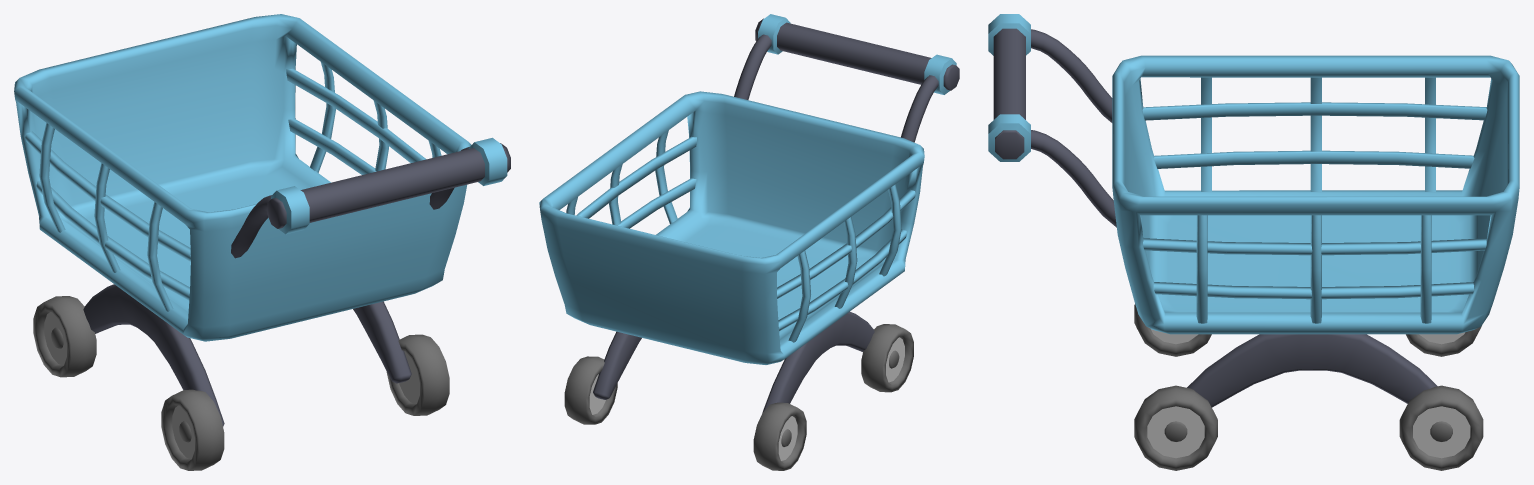
File: mdl_cart.fbx
The picture shows the model from 3 angles, left to right: view 1: azimuth 30°, elevation 25°; view 2: azimuth 150°, elevation 25°; view 3: azimuth 270°, elevation 25°; orthographic projection. The views are drawn at different scales.
Visible parts, largest first — view 1: pCube77; view 2: pCube77; view 3: pCube77.
Part boxes in pixels (bbox=[...]): pCube77: bbox=[14, 14, 510, 470]; pCube77: bbox=[539, 14, 959, 470]; pCube77: bbox=[988, 14, 1519, 470].
Size of the model in its own units: 66.79 by 72.22 by 101.
